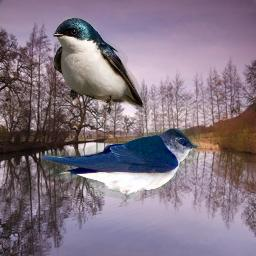Swallow: (39, 128, 200, 207), (53, 17, 145, 115)
